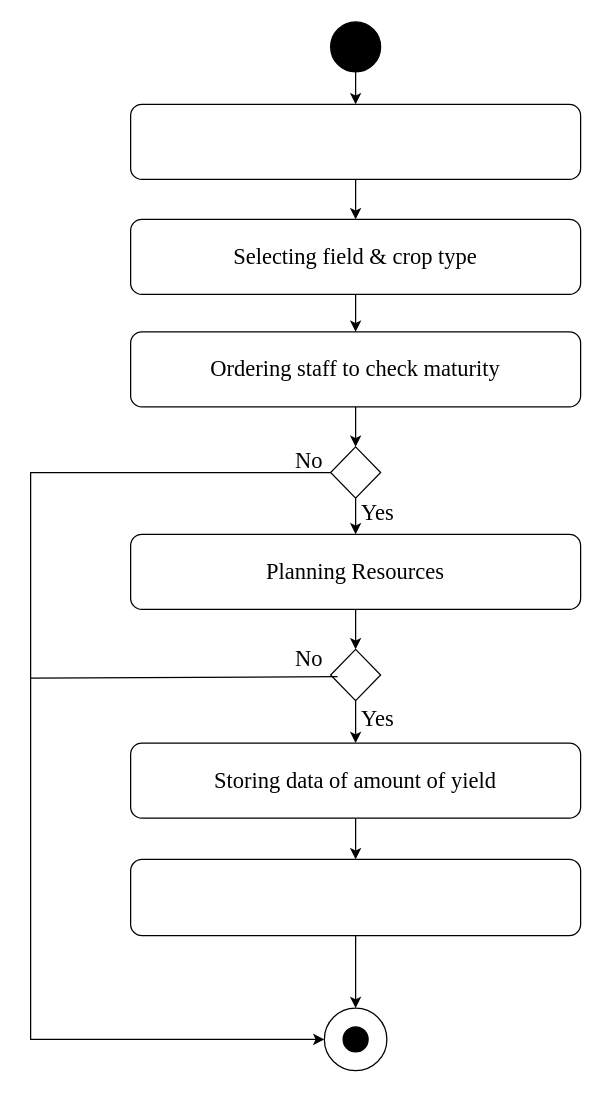
Some shapes in this 603 by 1093 pixel diagram are drawn without their labels. The centre of each missing label's shape, as x and y in pixels:
Inspecting Quality: the point at 355,897
Planning for harvesting: the point at 355,141
